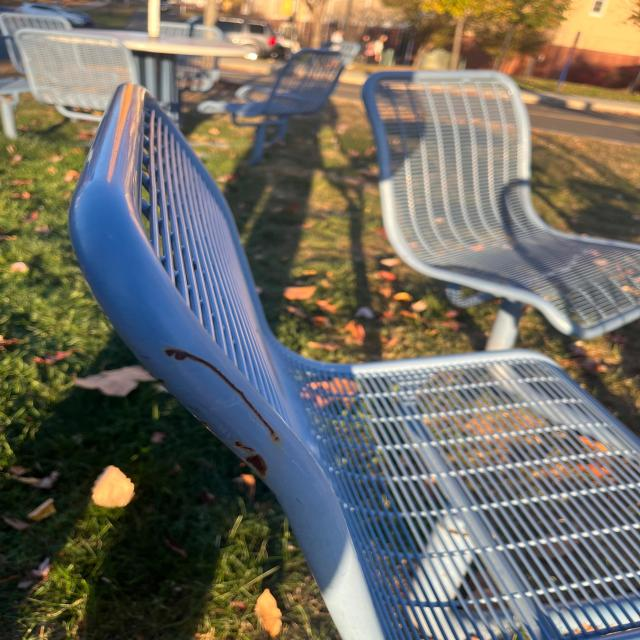Filiform Corrosion: (165, 349, 281, 444), (234, 441, 269, 478)
